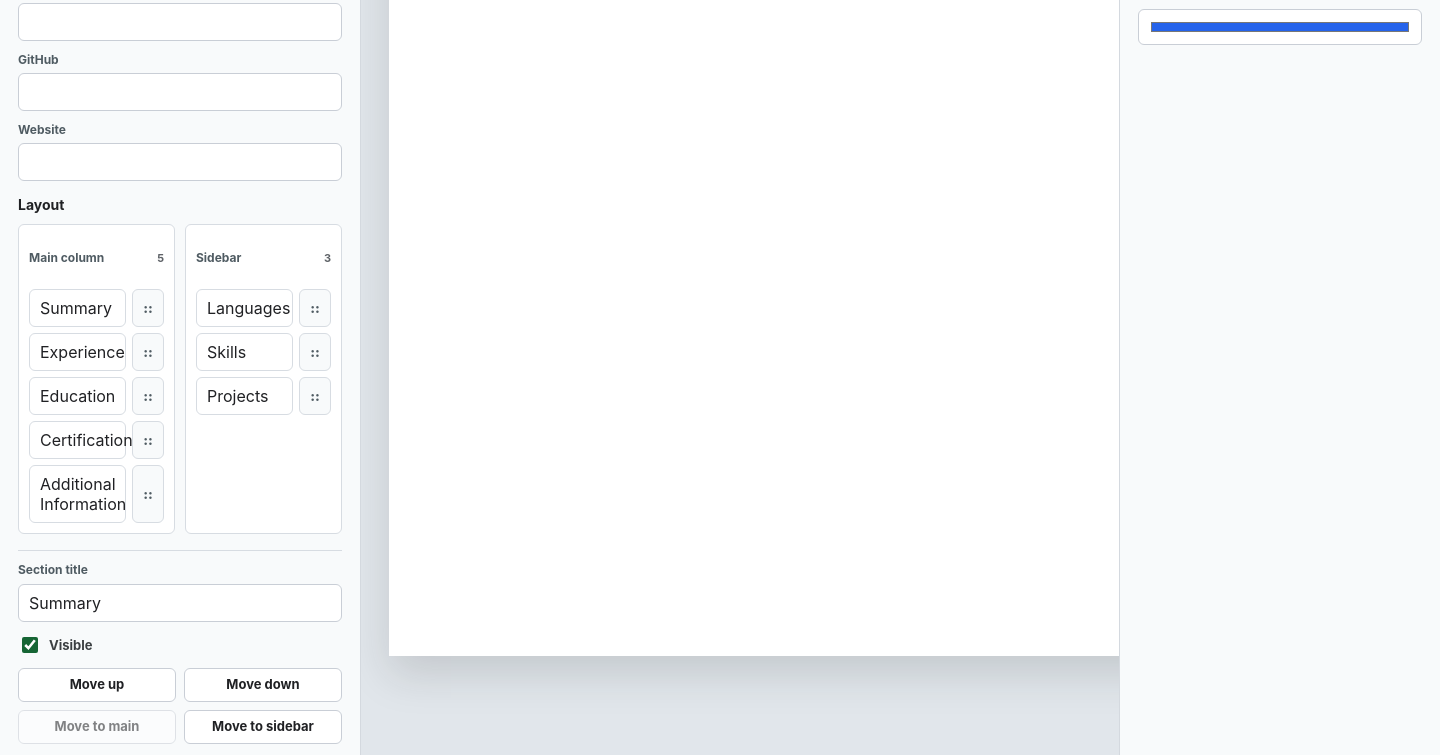
content editors › edits experience fields and highlights
(page scrolled)
Click the button "Experience". click: click(78, 352)
box: left=29, top=333, right=126, bottom=371
(page scrolled)
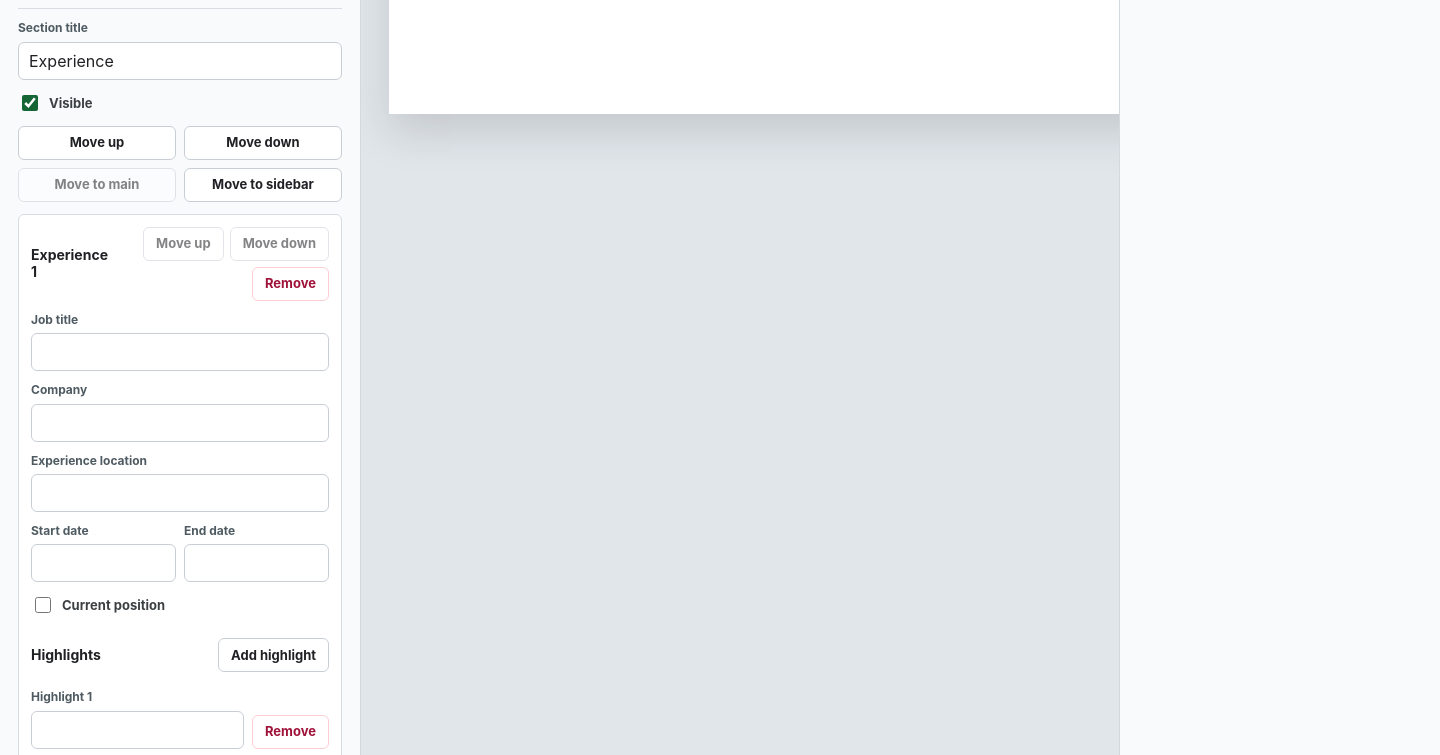
Type "Frontend Engineer" into the field labelled "Job title". click: (180, 352)
box: left=31, top=333, right=329, bottom=371
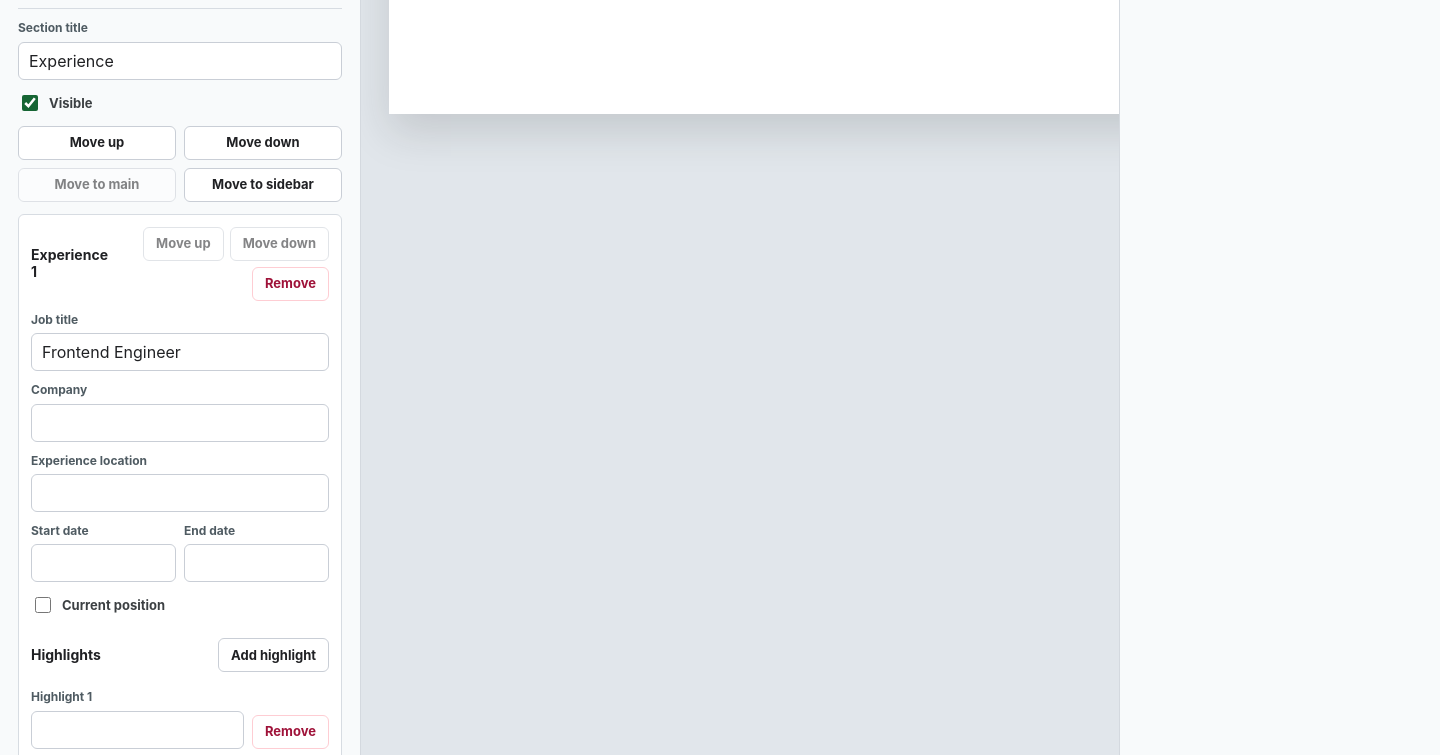
Type "Acme Labs" into the field labelled "Company". click: (180, 423)
box: left=31, top=404, right=329, bottom=442
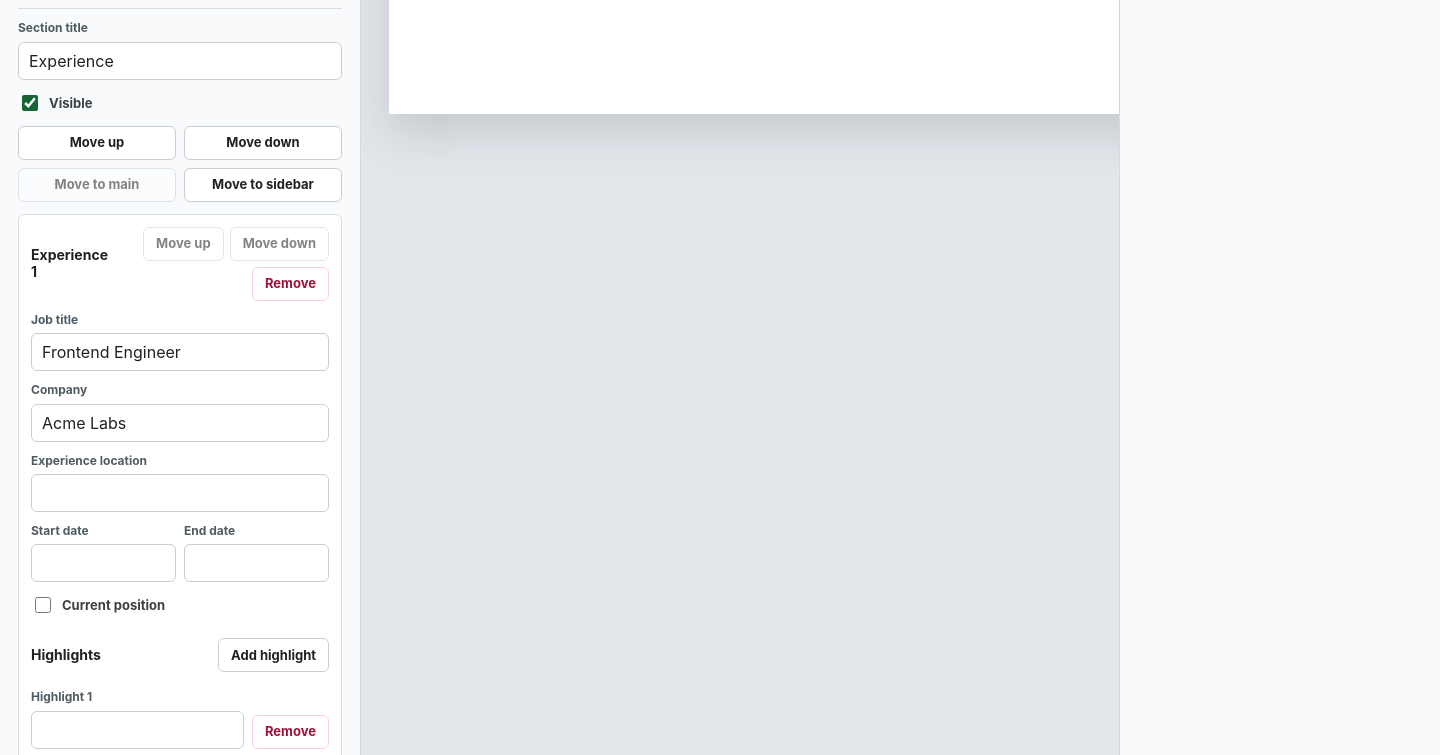
Type "Built reusable resume components" into the field labelled "Highlight 1". click: (138, 730)
box: left=31, top=711, right=244, bottom=749
(page scrolled)
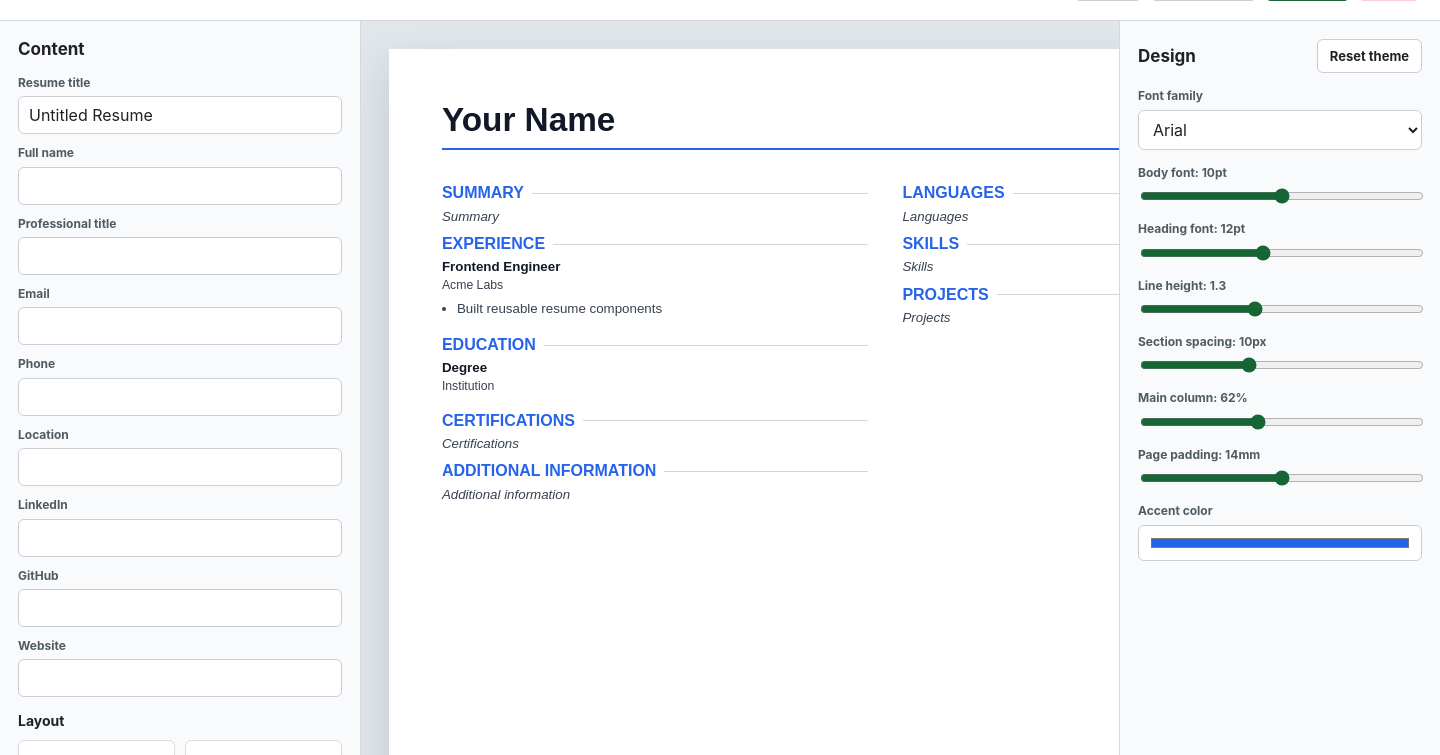
Expected: the text "Frontend Engineer" is shown, left=442, top=258, right=560, bottom=276
Expected: the text "Acme Labs" is shown, left=442, top=278, right=503, bottom=292
Expected: the list item "Built reusable resume components" is shown, left=457, top=301, right=662, bottom=316
